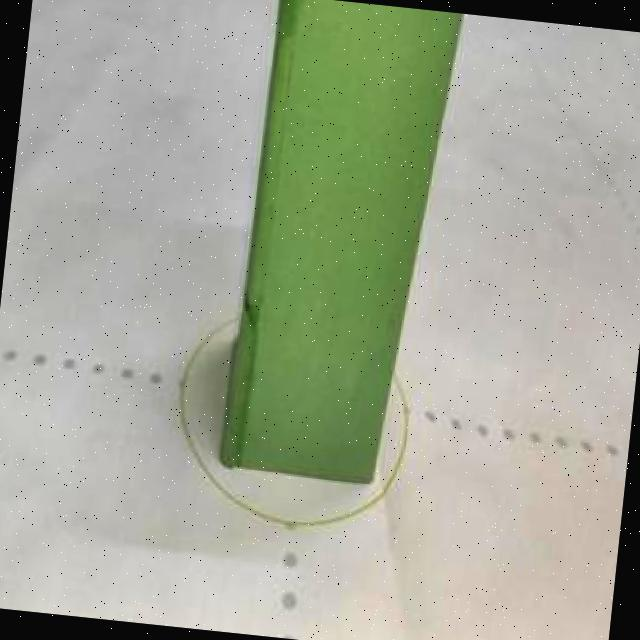greenbox: (216, 0, 431, 487)
